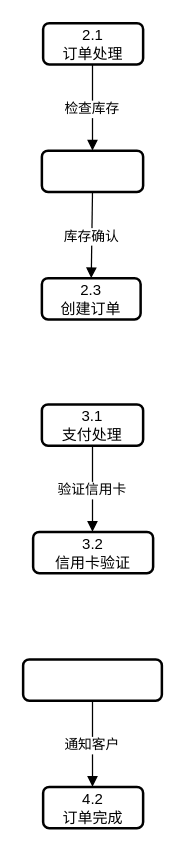
Image size: 184x850. Some labels were removed from this diagram. Each missing label, with the centre of its shape:
"2.2 库存管理" belongs at (x=92, y=170).
"4.1 更新订单状态" belongs at (x=91, y=679).
